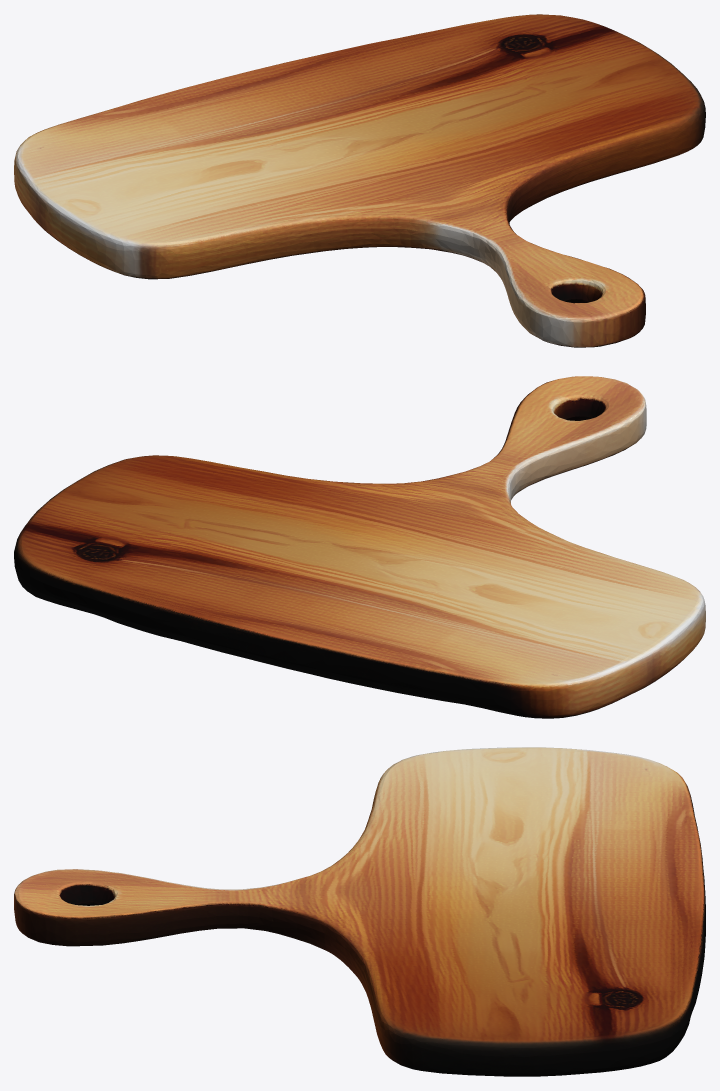
The model's file is wooden-cutting-board-vintage.jpeg.glb.
The picture shows the model from 3 angles, top to bottom: view 1: azimuth 30°, elevation 25°; view 2: azimuth 150°, elevation 25°; view 3: azimuth 270°, elevation 25°; orthographic projection.
Visible parts, largest first — view 1: world; view 2: world; view 3: world.
Boxes of the visible parts, <box> form: world: <box>14,14,705,347</box>; world: <box>14,376,705,718</box>; world: <box>14,747,705,1076</box>.
Size of the model in its own units: 0.9971 by 0.0619 by 0.9735.
Materials: 1 (1 with a texture image).
